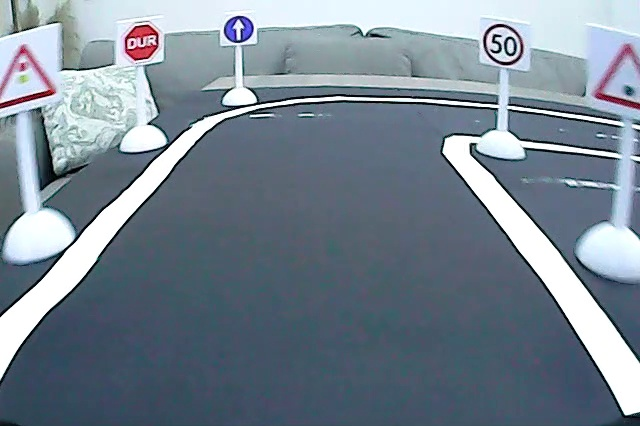green light: (589, 38, 640, 114)
red light: (1, 42, 63, 110)
speed limit 50: (480, 22, 527, 70)
stop sign: (120, 19, 163, 67)
